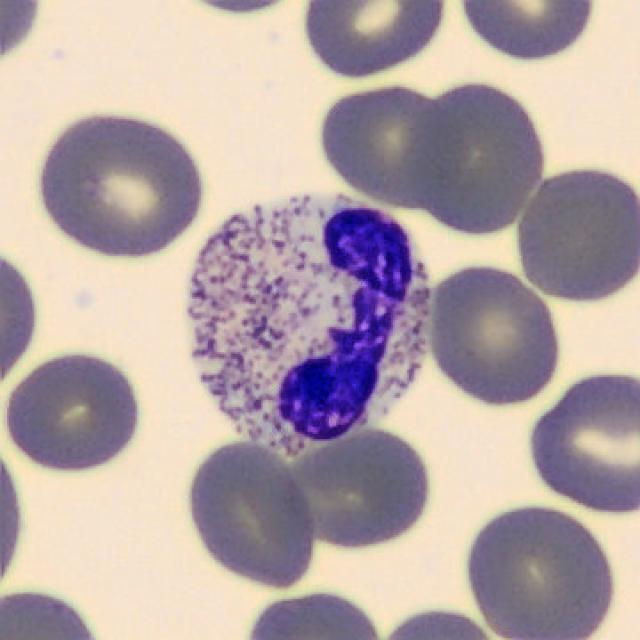Neutrofilo segmentado: (190, 196, 428, 457)
